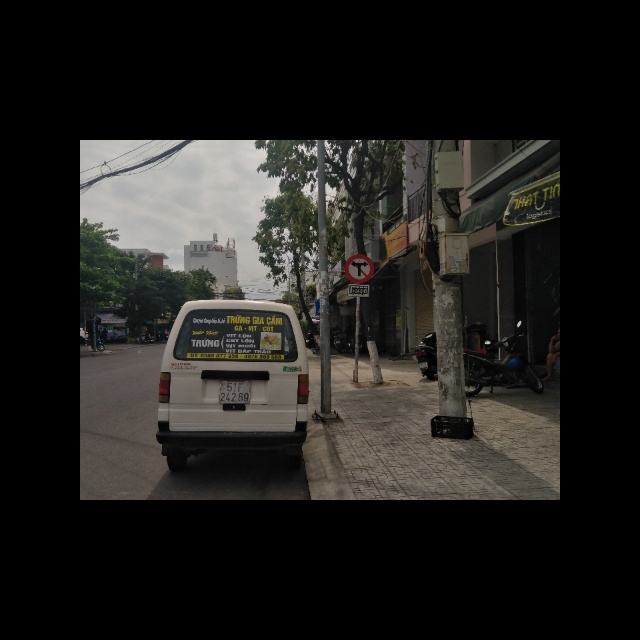Cấm rẽ trái và rẽ phải: (344, 254, 374, 284)
